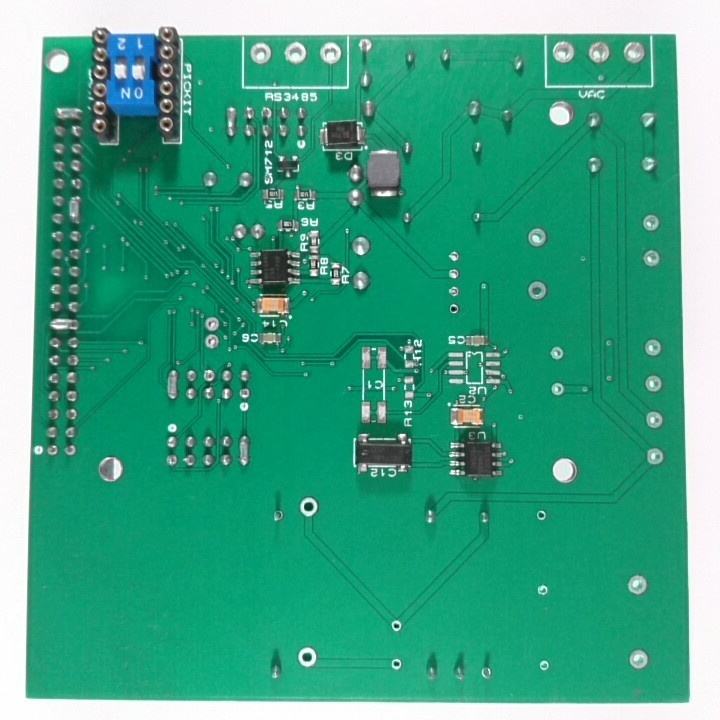F: (316, 40, 345, 68), (585, 38, 613, 67), (622, 38, 650, 66), (623, 571, 652, 598), (245, 40, 275, 66), (550, 38, 577, 66), (281, 39, 310, 65), (624, 646, 652, 671), (295, 493, 319, 521), (641, 372, 668, 396), (293, 645, 319, 669), (524, 278, 550, 301), (638, 212, 664, 235), (643, 445, 667, 469), (526, 225, 550, 248), (644, 408, 667, 432), (640, 247, 664, 270), (641, 337, 666, 358), (202, 332, 223, 352), (547, 379, 569, 398), (356, 36, 376, 55), (546, 343, 566, 361), (269, 505, 286, 526), (478, 663, 495, 683), (202, 314, 220, 332), (257, 104, 274, 123), (164, 451, 180, 469), (236, 385, 252, 403), (66, 352, 82, 369), (445, 284, 461, 300), (389, 618, 404, 635), (447, 247, 462, 264), (46, 407, 61, 423), (201, 367, 216, 383), (537, 657, 552, 672), (44, 442, 58, 458), (447, 267, 461, 283), (390, 656, 404, 671), (536, 583, 550, 598), (447, 302, 461, 316), (535, 507, 547, 523)
P: (44, 315, 83, 335), (65, 192, 87, 227), (222, 103, 241, 140), (236, 429, 253, 470), (163, 365, 181, 402), (50, 105, 87, 121)
